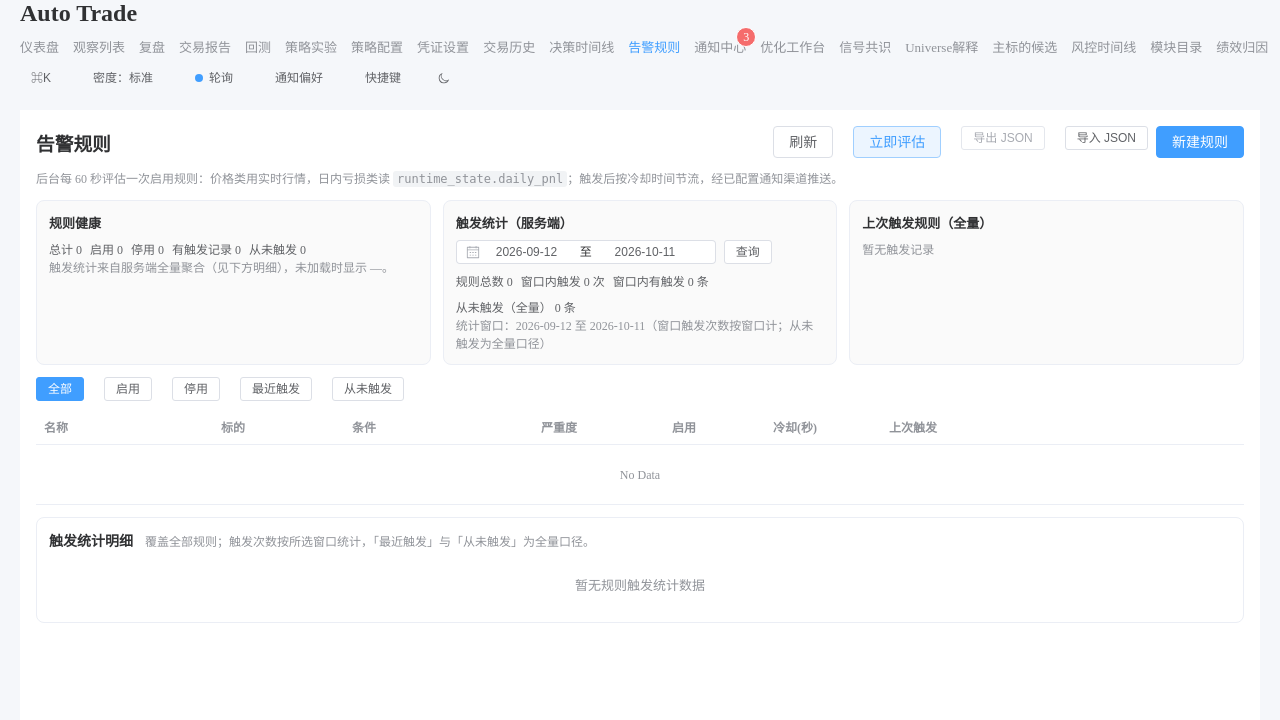
Scenario: Alert Rules › creates a rule and runs evaluation
The width and height of the screenshot is (1280, 720).
Expected: the link "告警规则" is shown, [628,37,680,56]
Click the button with test id "alert-create" at x=1200, y=142, box [1156,126,1244,158]
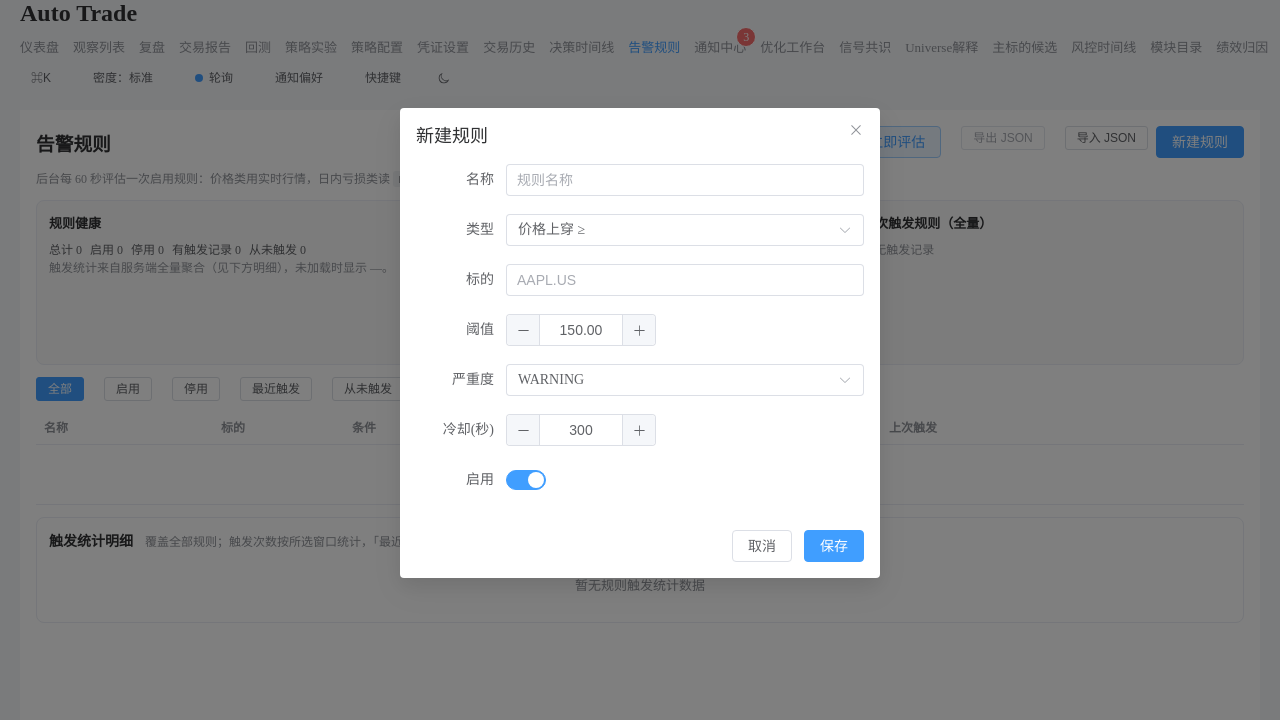
Result: the element with test id "alert-dialog" is shown at [400,108,880,578]
Type "NVDA 高点" into the field with placeholder "规则名称" at x=685, y=180, box [517,165,853,195]
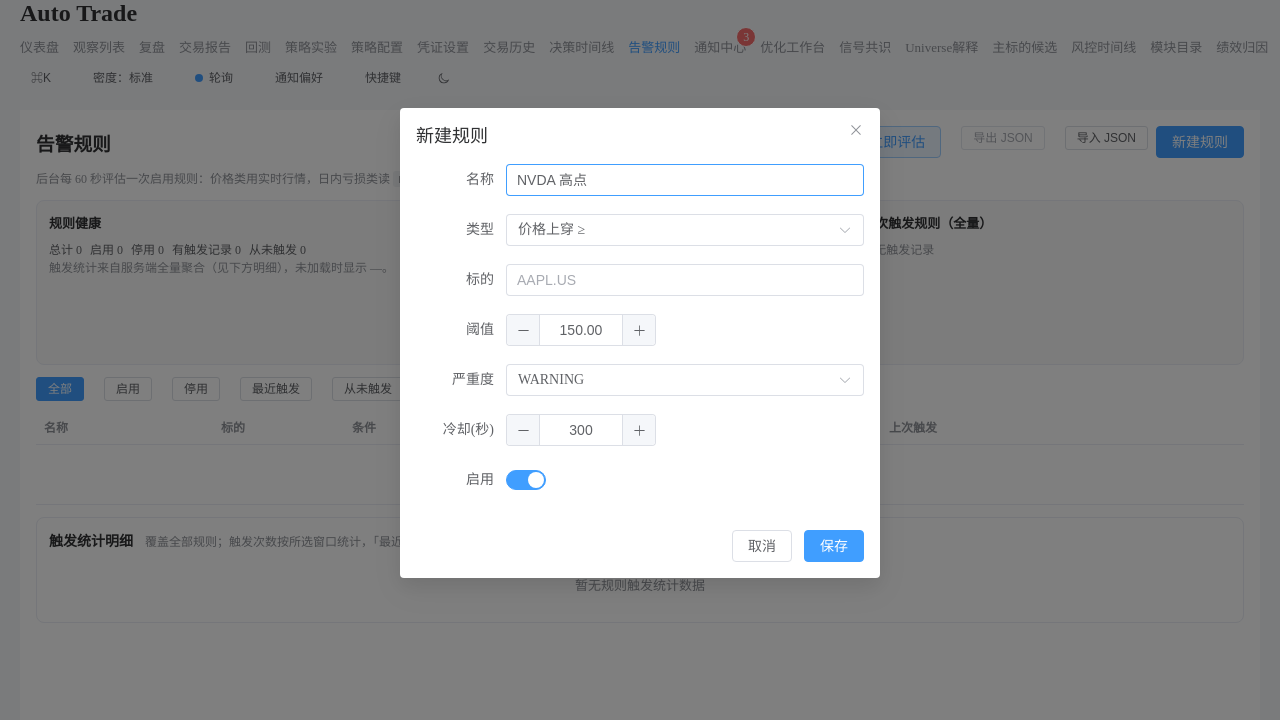
Click the button with test id "alert-save" at x=834, y=546, box [804,530,864,562]
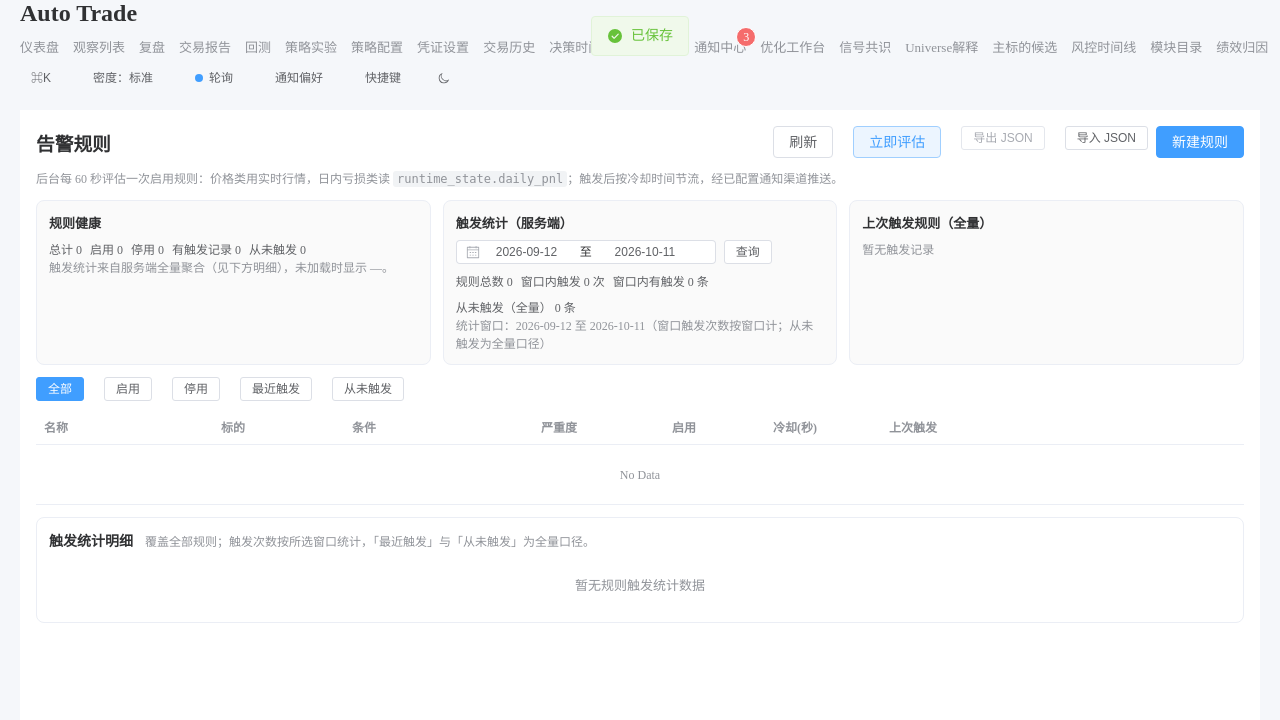
Click the button with test id "alert-evaluate" at x=897, y=142, box [853,126,941,158]
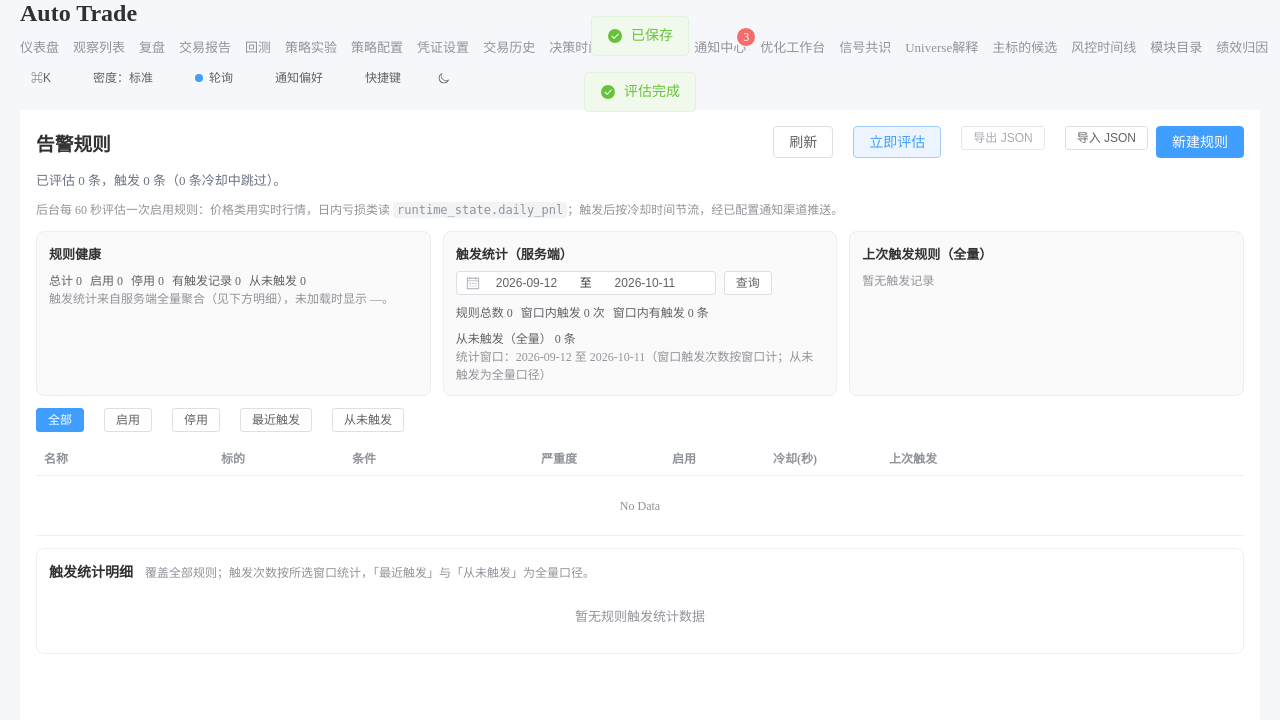
Result: the text "评估完成" is shown at [624,85,680,99]
